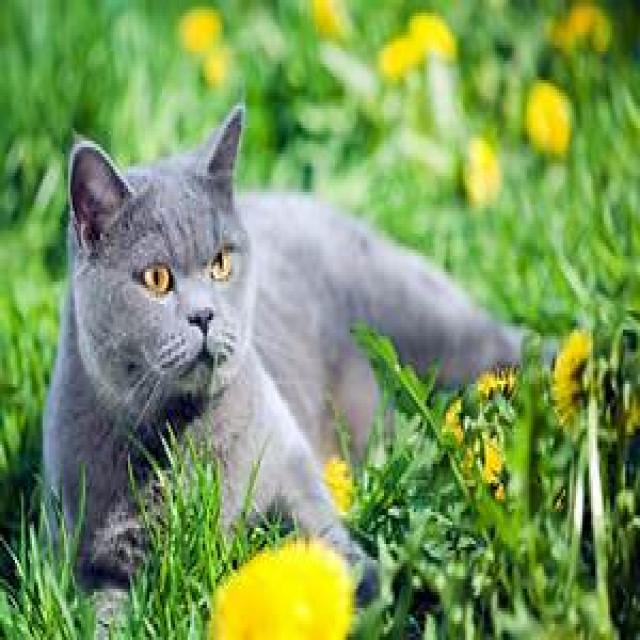animal: (41, 99, 558, 637)
